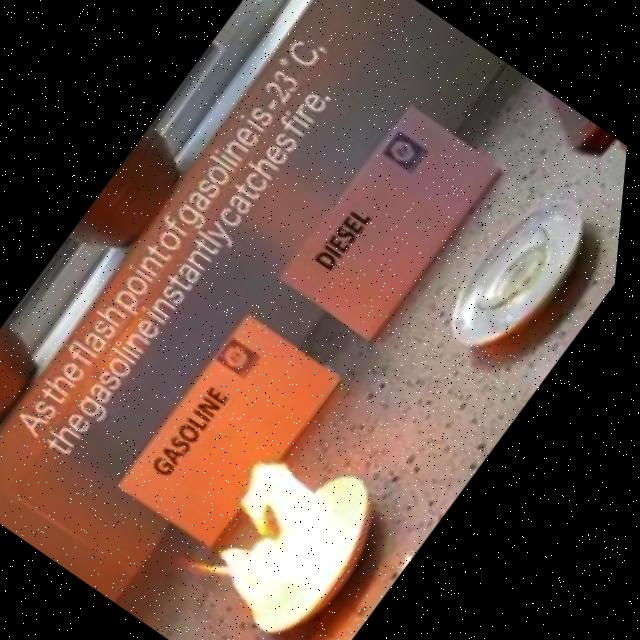Fire: (166, 432, 395, 640)
